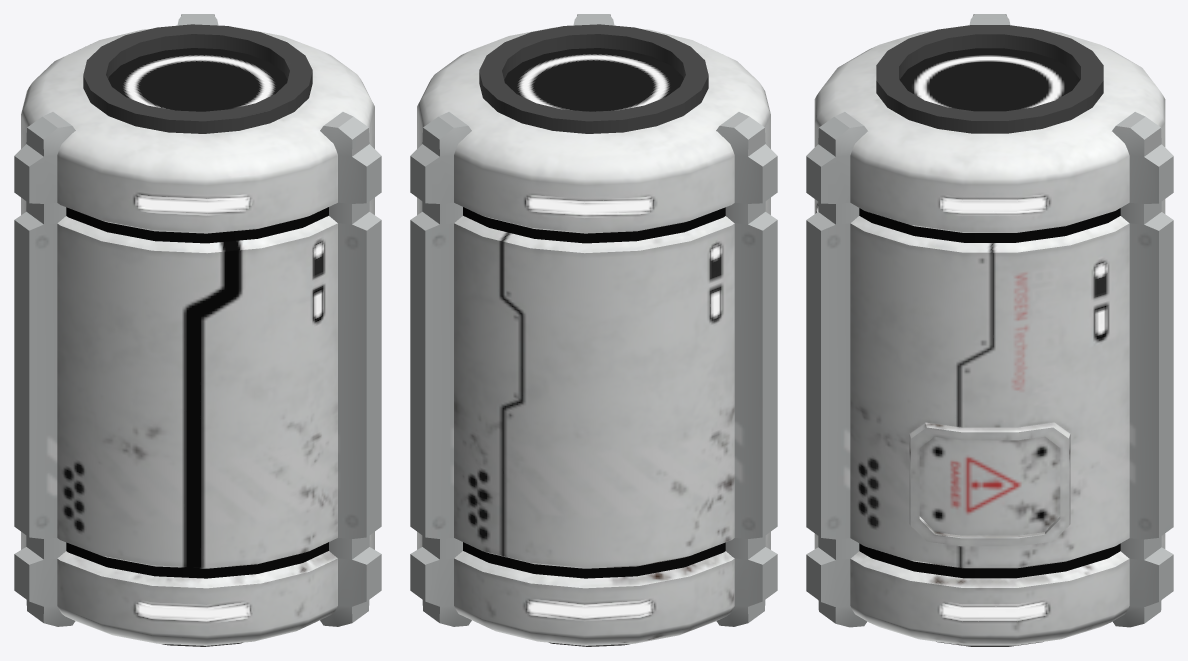
Rendered from Pfb_Soda_WarmKeeper__4.fbx.
3 views of the same model, side by side, from view 1: azimuth 30°, elevation 25°; view 2: azimuth 150°, elevation 25°; view 3: azimuth 270°, elevation 25° (orthographic).
Visible parts, largest first — view 1: WarmKeeper_White; view 2: WarmKeeper_White; view 3: WarmKeeper_White.
Boxes of the visible parts, x1,y1,x2,y2 form: WarmKeeper_White: [14, 14, 381, 646]; WarmKeeper_White: [410, 14, 777, 646]; WarmKeeper_White: [806, 14, 1173, 646].
Size of the model in its own units: 2.18 by 3.27 by 2.07.
1 material, 1 textured.
